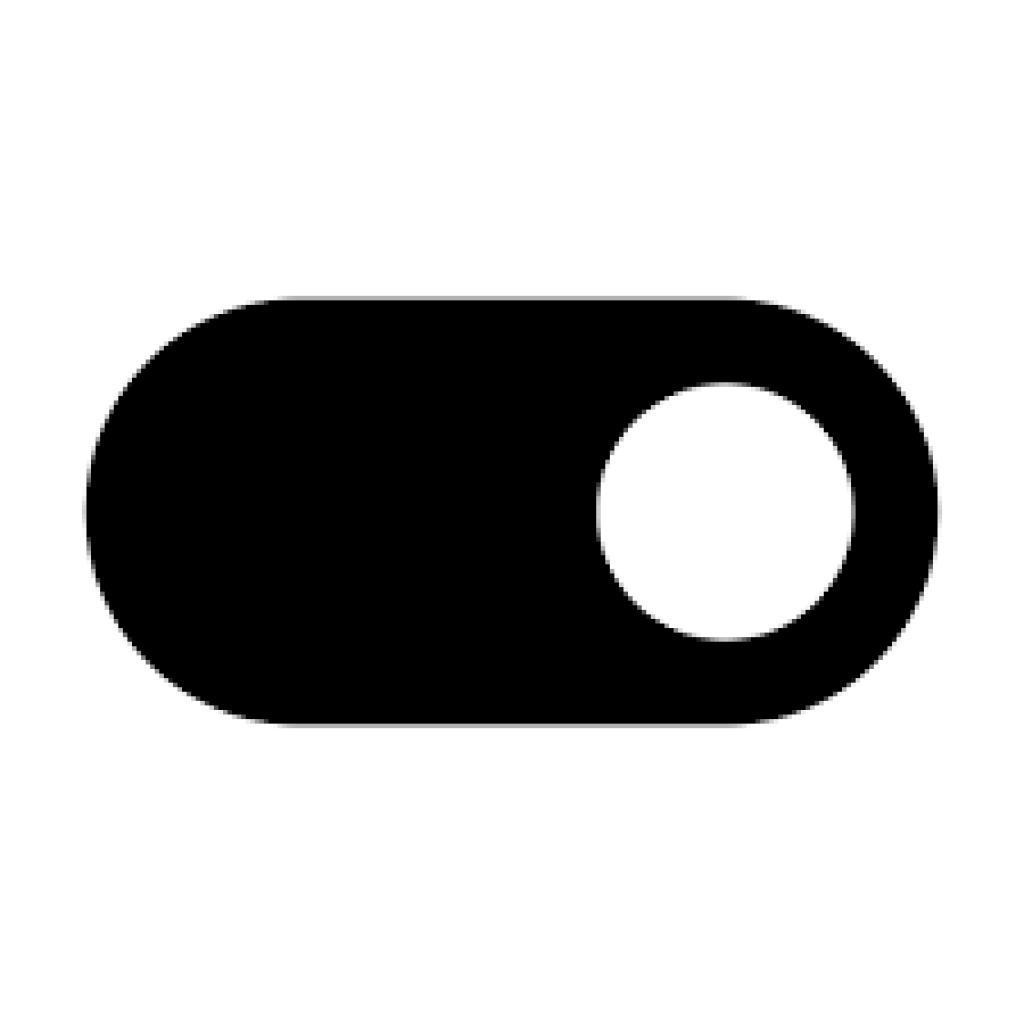switch: (78, 301, 942, 722)
